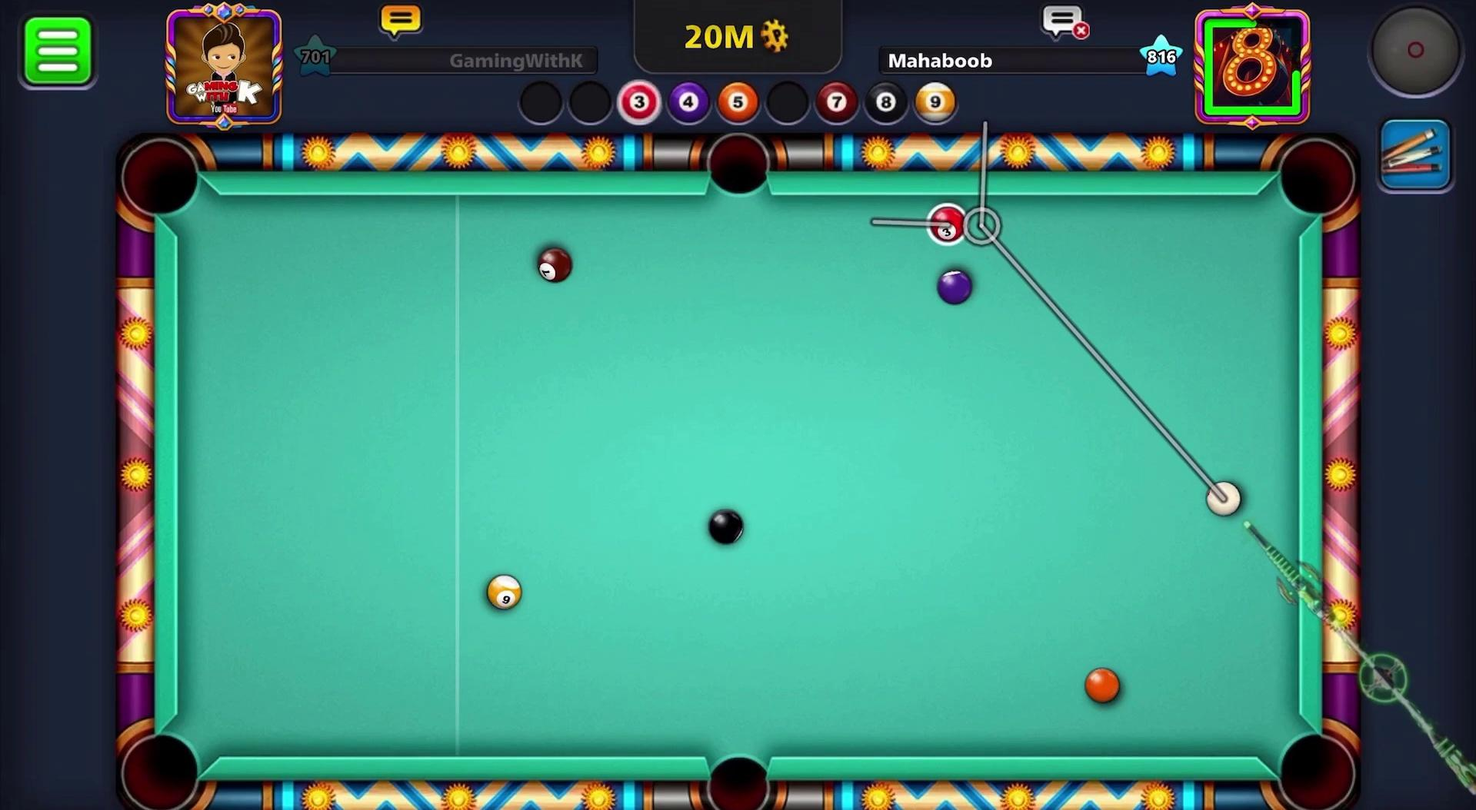Ball: (697, 504, 751, 550), (480, 567, 528, 614), (931, 264, 978, 309), (1078, 663, 1126, 703), (530, 245, 575, 284)
Guideline: (869, 121, 1232, 506)
Hole: (1267, 710, 1364, 809), (1268, 131, 1364, 231), (112, 131, 205, 226), (115, 729, 205, 809), (697, 123, 783, 201), (697, 738, 779, 809)
Play_Area: (177, 195, 1294, 759)
Spin: (1356, 2, 1473, 110)
White: (1196, 475, 1250, 522)
